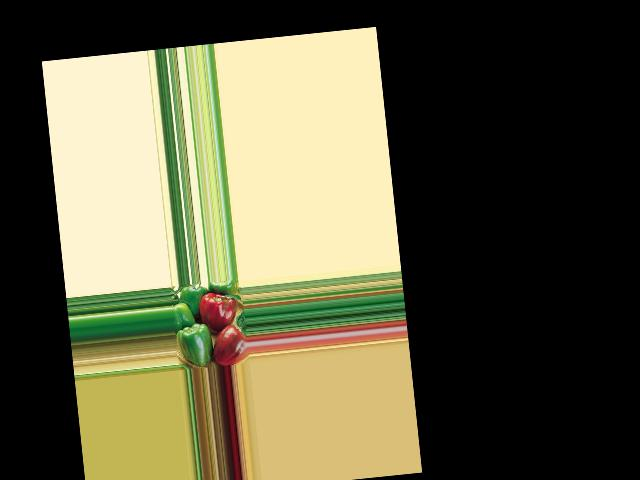bell_pepper: (212, 323, 248, 366)
